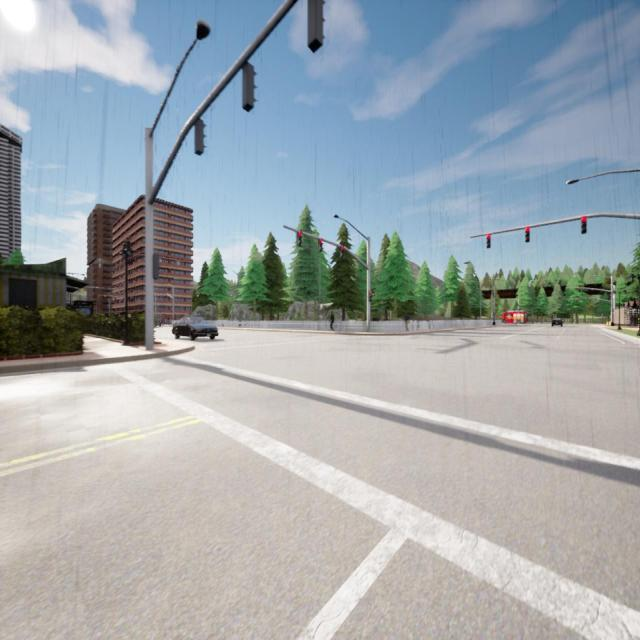Pedestrian: (404, 310, 409, 331), (330, 311, 334, 331), (168, 317, 170, 325)
Vehicle: (172, 316, 218, 340), (500, 311, 528, 323), (552, 318, 562, 327), (156, 320, 160, 327)
traffic_light: (308, 0, 325, 53), (243, 62, 257, 111), (195, 119, 207, 156), (153, 255, 158, 278), (486, 234, 491, 248), (525, 228, 530, 242), (582, 217, 586, 233), (318, 238, 322, 252), (297, 232, 301, 245), (341, 246, 344, 257), (369, 291, 372, 301), (566, 298, 568, 303), (576, 298, 578, 302), (589, 298, 591, 302), (579, 287, 580, 292)
